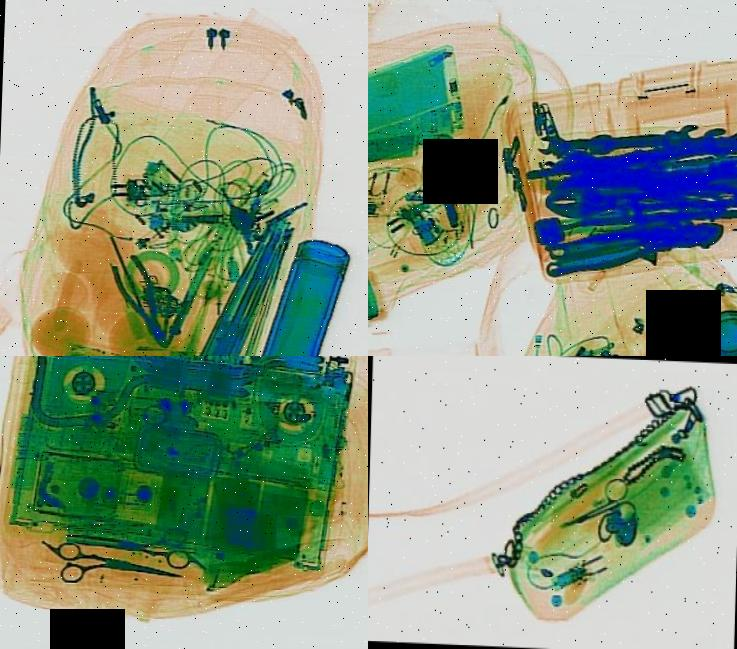Pliers: (540, 206, 726, 280), (101, 246, 180, 356)
Scissors: (49, 538, 185, 597), (545, 472, 649, 544), (58, 514, 192, 569)
Wrench: (534, 114, 700, 162), (618, 120, 732, 173)
